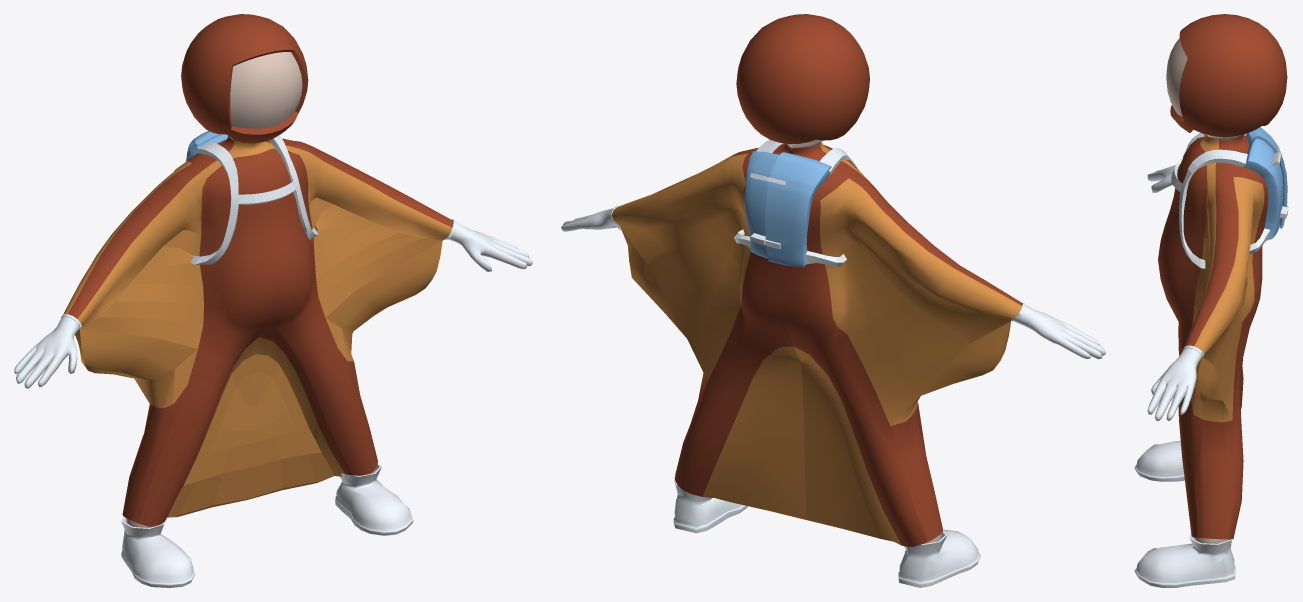
File: wing_suit_character.fbx
The picture shows the model from 3 angles, left to right: view 1: azimuth 30°, elevation 25°; view 2: azimuth 150°, elevation 25°; view 3: azimuth 270°, elevation 25°; orthographic projection. The views are drawn at different scales.
Visible parts, largest first — view 1: polySurface69, polySurface73, polySurface55, polySurface76, pCube70, polySurface72; view 2: polySurface69, polySurface73, polySurface72, polySurface55, pCube70; view 3: polySurface69, polySurface73, polySurface55, polySurface72, pCube70, polySurface76.
Part boxes in pixels (x1,y1,x2,y2): polySurface69: [63, 135, 453, 526]; polySurface73: [181, 14, 308, 143]; polySurface55: [121, 463, 413, 587]; polySurface76: [85, 52, 446, 527]; pCube70: [14, 219, 532, 388]; polySurface72: [186, 131, 318, 264]; polySurface69: [611, 141, 1022, 546]; polySurface73: [736, 14, 869, 144]; polySurface72: [734, 140, 857, 266]; polySurface55: [673, 476, 980, 587]; pCube70: [561, 205, 1105, 359]; polySurface69: [1158, 134, 1267, 539]; polySurface73: [1170, 14, 1287, 137]; polySurface55: [1134, 440, 1235, 587]; polySurface72: [1171, 127, 1288, 268]; pCube70: [1147, 165, 1204, 421]; polySurface76: [1166, 38, 1241, 543].
Size of the model in its own units: 8.51 by 8.05 by 2.24.
